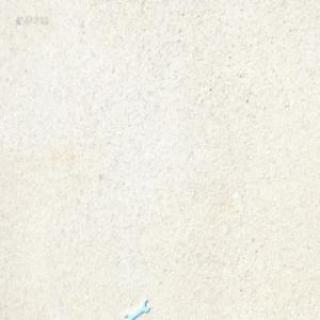Wrenchtrack_idkeyframe: (124, 297, 150, 319)
